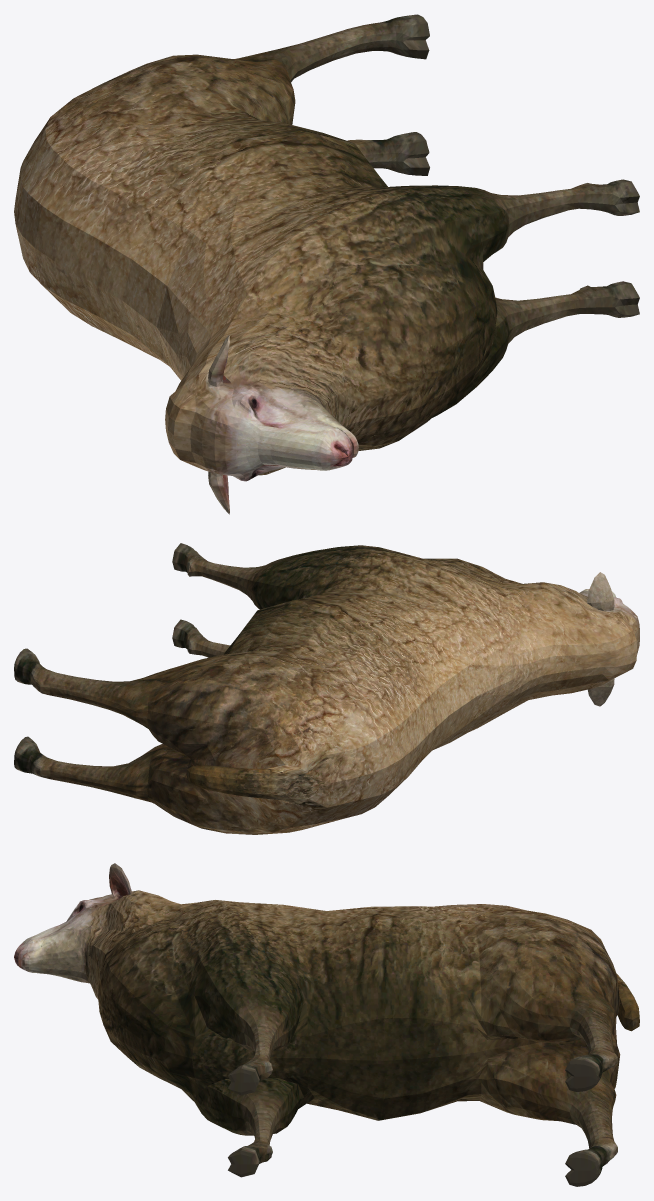
Rendered from sheep.dae.
3 renders of one model, top to bottom at view 1: azimuth 30°, elevation 25°; view 2: azimuth 150°, elevation 25°; view 3: azimuth 270°, elevation 25°, orthographic. The views are drawn at different scales.
Visible parts, largest first — view 1: Sheep; view 2: Sheep; view 3: Sheep.
Part boxes in pixels (x1,y1,x2,y2): Sheep: [14, 14, 639, 514]; Sheep: [14, 543, 639, 834]; Sheep: [14, 863, 639, 1186].
Size of the model in its own units: 0.7802 by 0.9845 by 0.327.
Materials: 1 (1 with a texture image).
